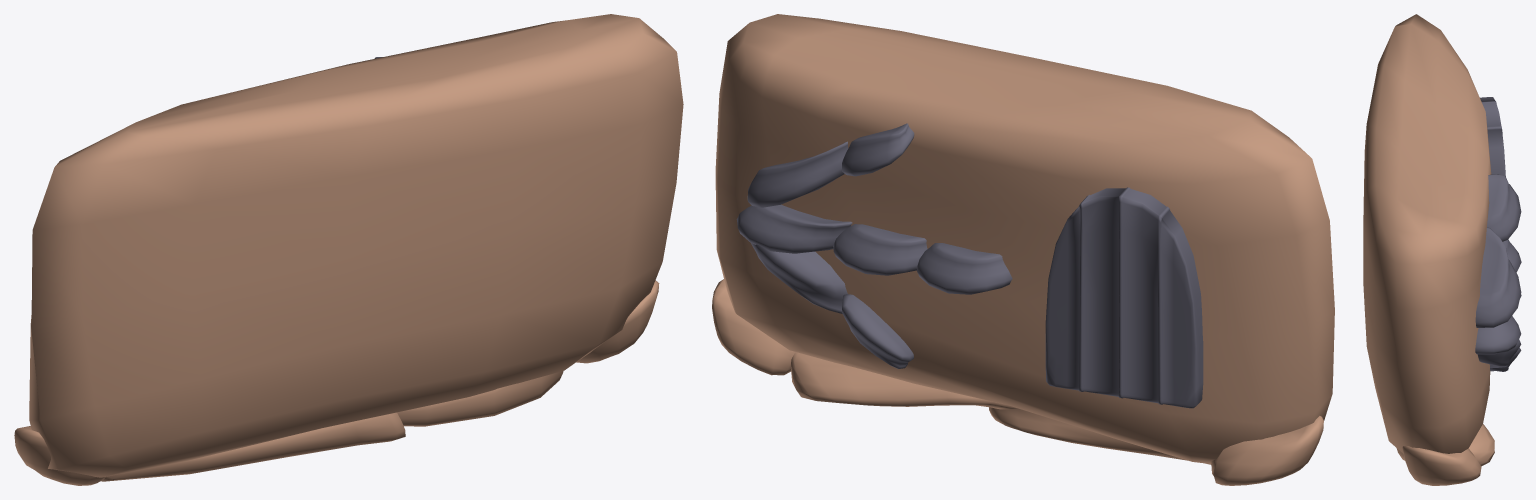
Rendered from signDoor.fbx.
The picture shows the model from 3 angles, left to right: view 1: azimuth 30°, elevation 25°; view 2: azimuth 150°, elevation 25°; view 3: azimuth 270°, elevation 25°; orthographic projection. The views are drawn at different scales.
Visible parts, largest first — view 1: sign.door; view 2: sign.door; view 3: sign.door.
Part boxes in pixels (left/top/right/bottom): sign.door: left=14, top=14, right=683, bottom=485; sign.door: left=712, top=14, right=1334, bottom=485; sign.door: left=1363, top=14, right=1521, bottom=485.
Size of the model in its own units: 1.23 by 0.6848 by 0.337.
